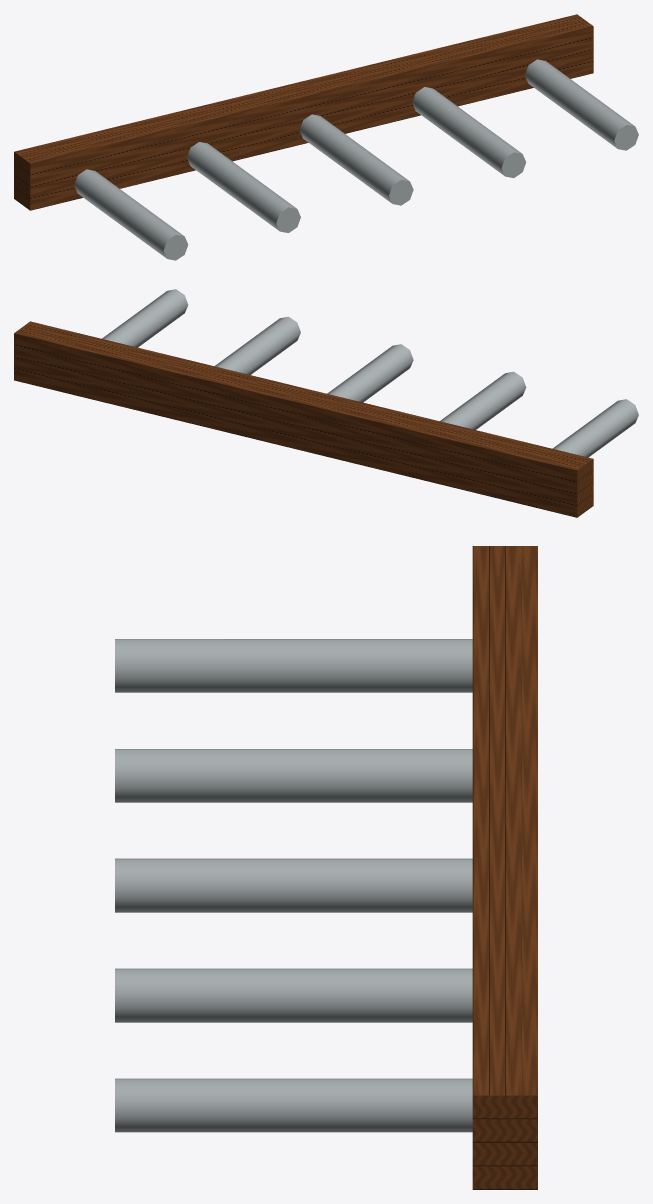
The model's file is rural-scavenging-settlements-boot-room-pegs-fefe1d68__26561.glb.
The picture shows the model from 3 angles, top to bottom: view 1: azimuth 30°, elevation 25°; view 2: azimuth 150°, elevation 25°; view 3: azimuth 270°, elevation 25°; orthographic projection. The views are drawn at different scales.
Parts seen in each view (by area): view 1: boot-room-pegs; view 2: boot-room-pegs; view 3: boot-room-pegs.
Boxes of the visible parts, x1=… form: boot-room-pegs: x1=14, y1=14, x2=638, y2=260; boot-room-pegs: x1=14, y1=289, x2=638, y2=517; boot-room-pegs: x1=115, y1=546, x2=537, y2=1189.
Size of the model in its own units: 1 by 0.08 by 0.325.
2 materials, 1 textured.
